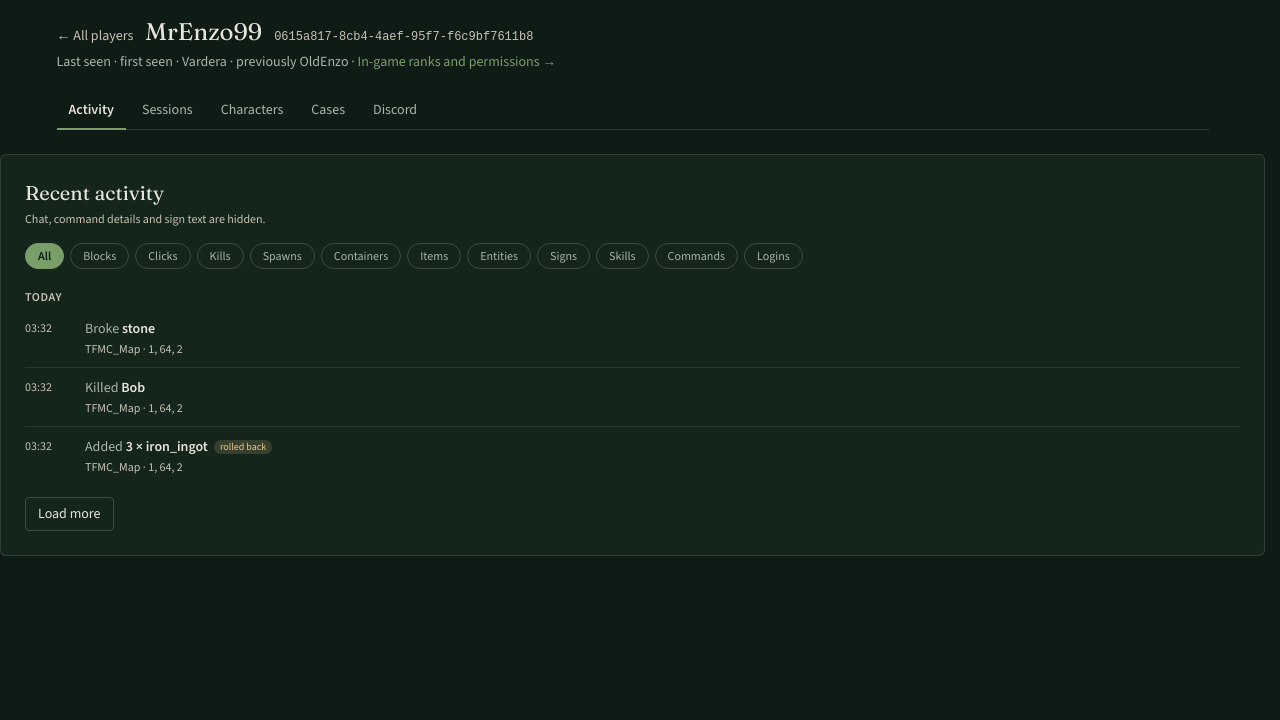
Test: never pages an old filter's cursor into a new filter
Expected: the button "Load more" is shown, top-left (25, 497), bottom-right (114, 531)
Click the button "Kills" at (220, 256), box top-left (197, 243), bottom-right (244, 269)
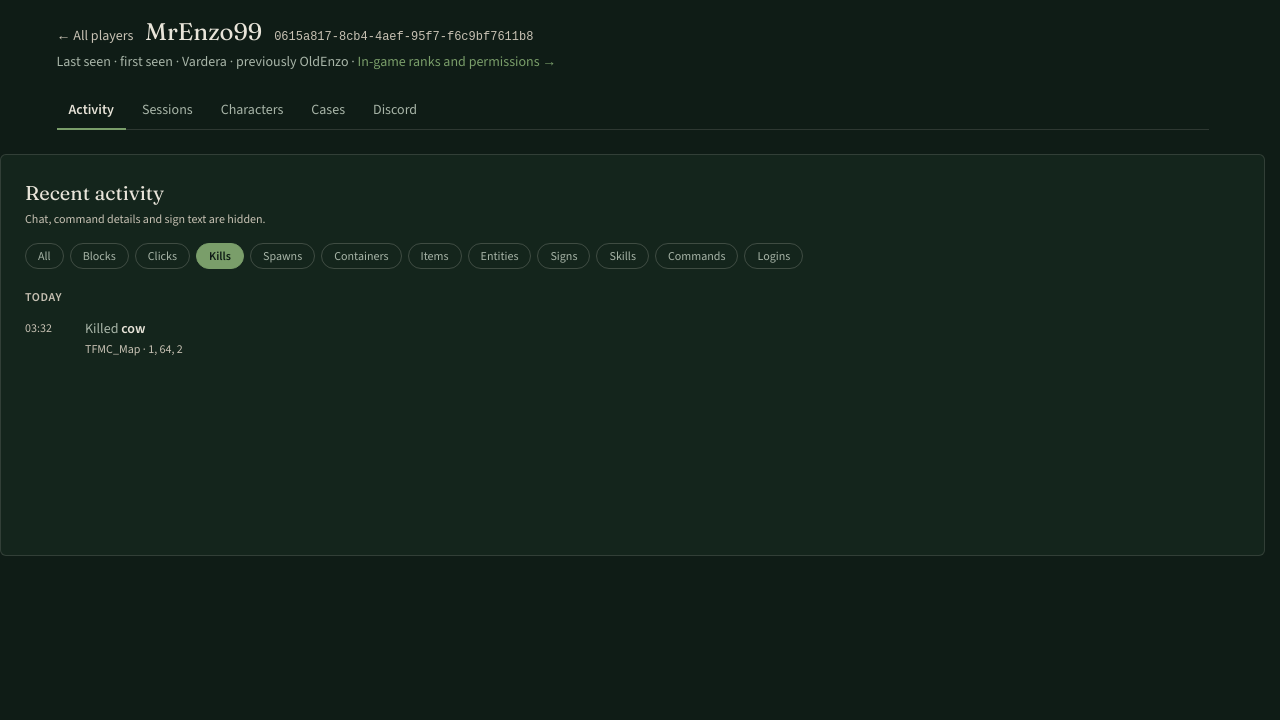
Expected: the button "Load more" is gone
Expected: the text "cow" is shown, top-left (121, 319), bottom-right (145, 338)
Expected: the text "stone" is gone
